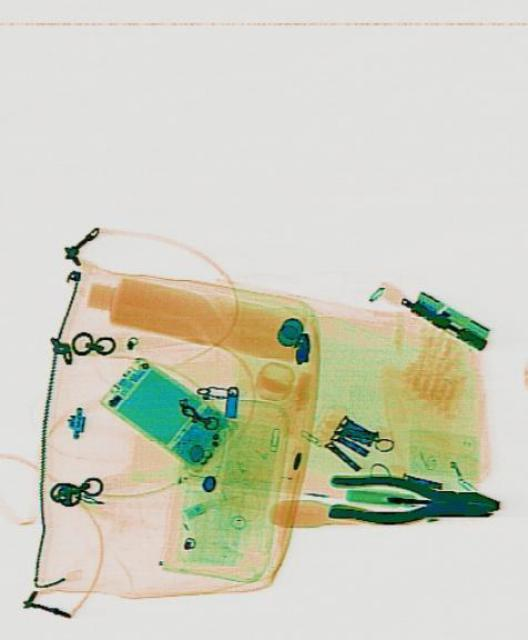Pliers: (326, 469, 497, 528)
